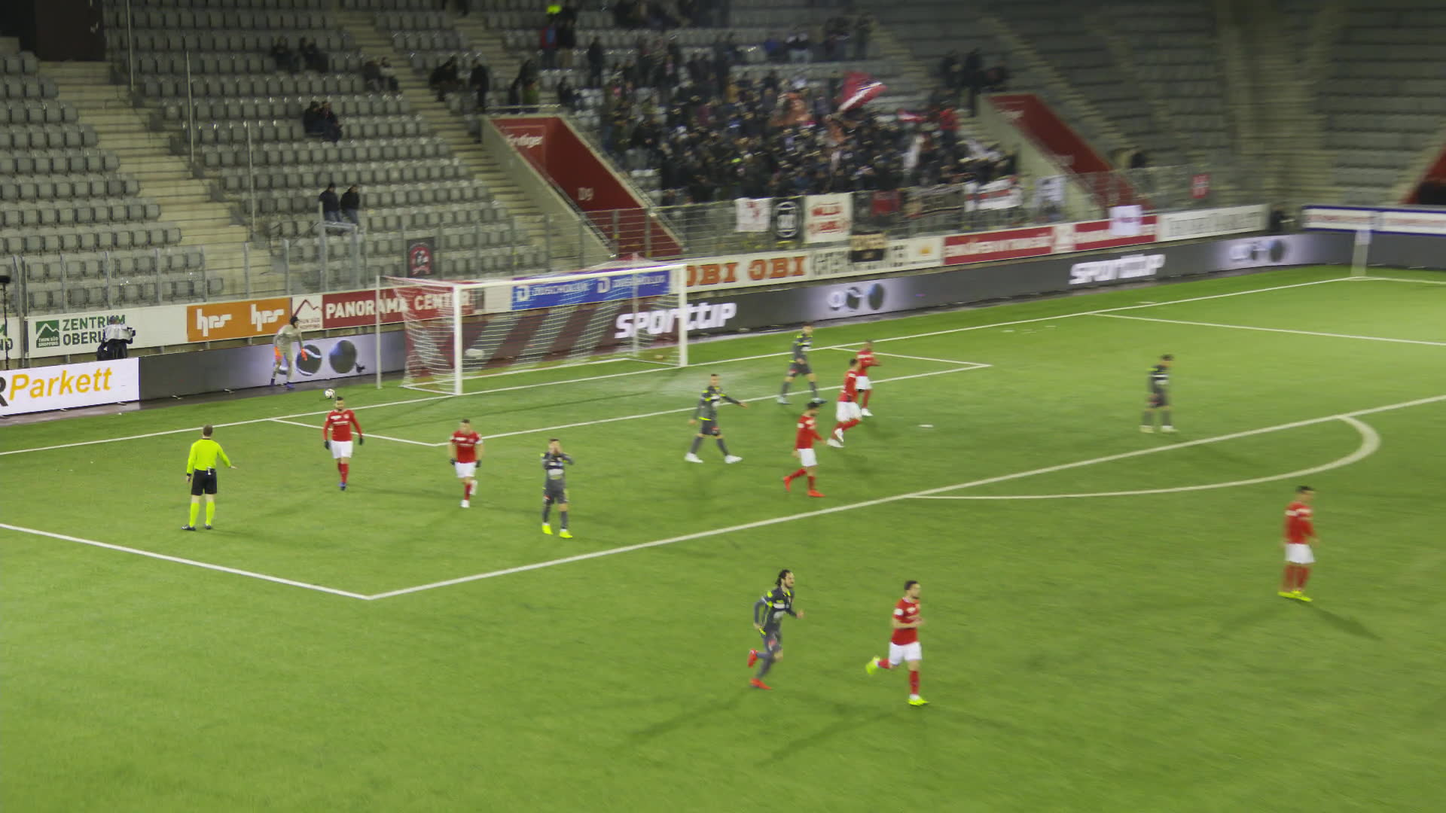ball: (325, 388, 334, 397)
player: (864, 579, 932, 705), (746, 564, 803, 689), (1276, 485, 1330, 604), (688, 370, 746, 467), (539, 436, 587, 542), (782, 399, 833, 498), (328, 396, 371, 495), (785, 321, 831, 407), (831, 358, 870, 450), (453, 414, 490, 508), (1143, 352, 1185, 434), (270, 316, 310, 394), (852, 338, 881, 419)
referee: (188, 422, 245, 531)
